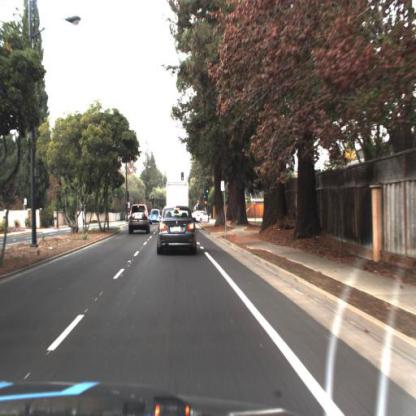car: (156, 201, 202, 258), (162, 181, 196, 213), (127, 204, 152, 239), (191, 208, 212, 228), (150, 207, 162, 233)
truck: (166, 180, 191, 219)
